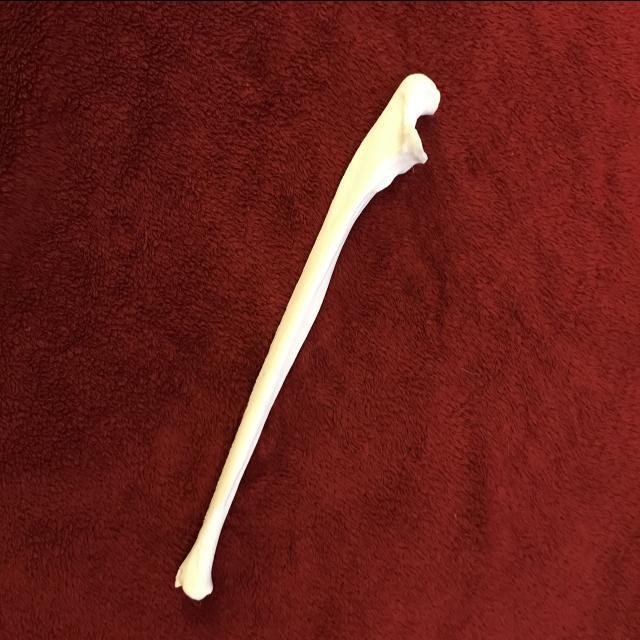bone: (164, 66, 446, 608)
